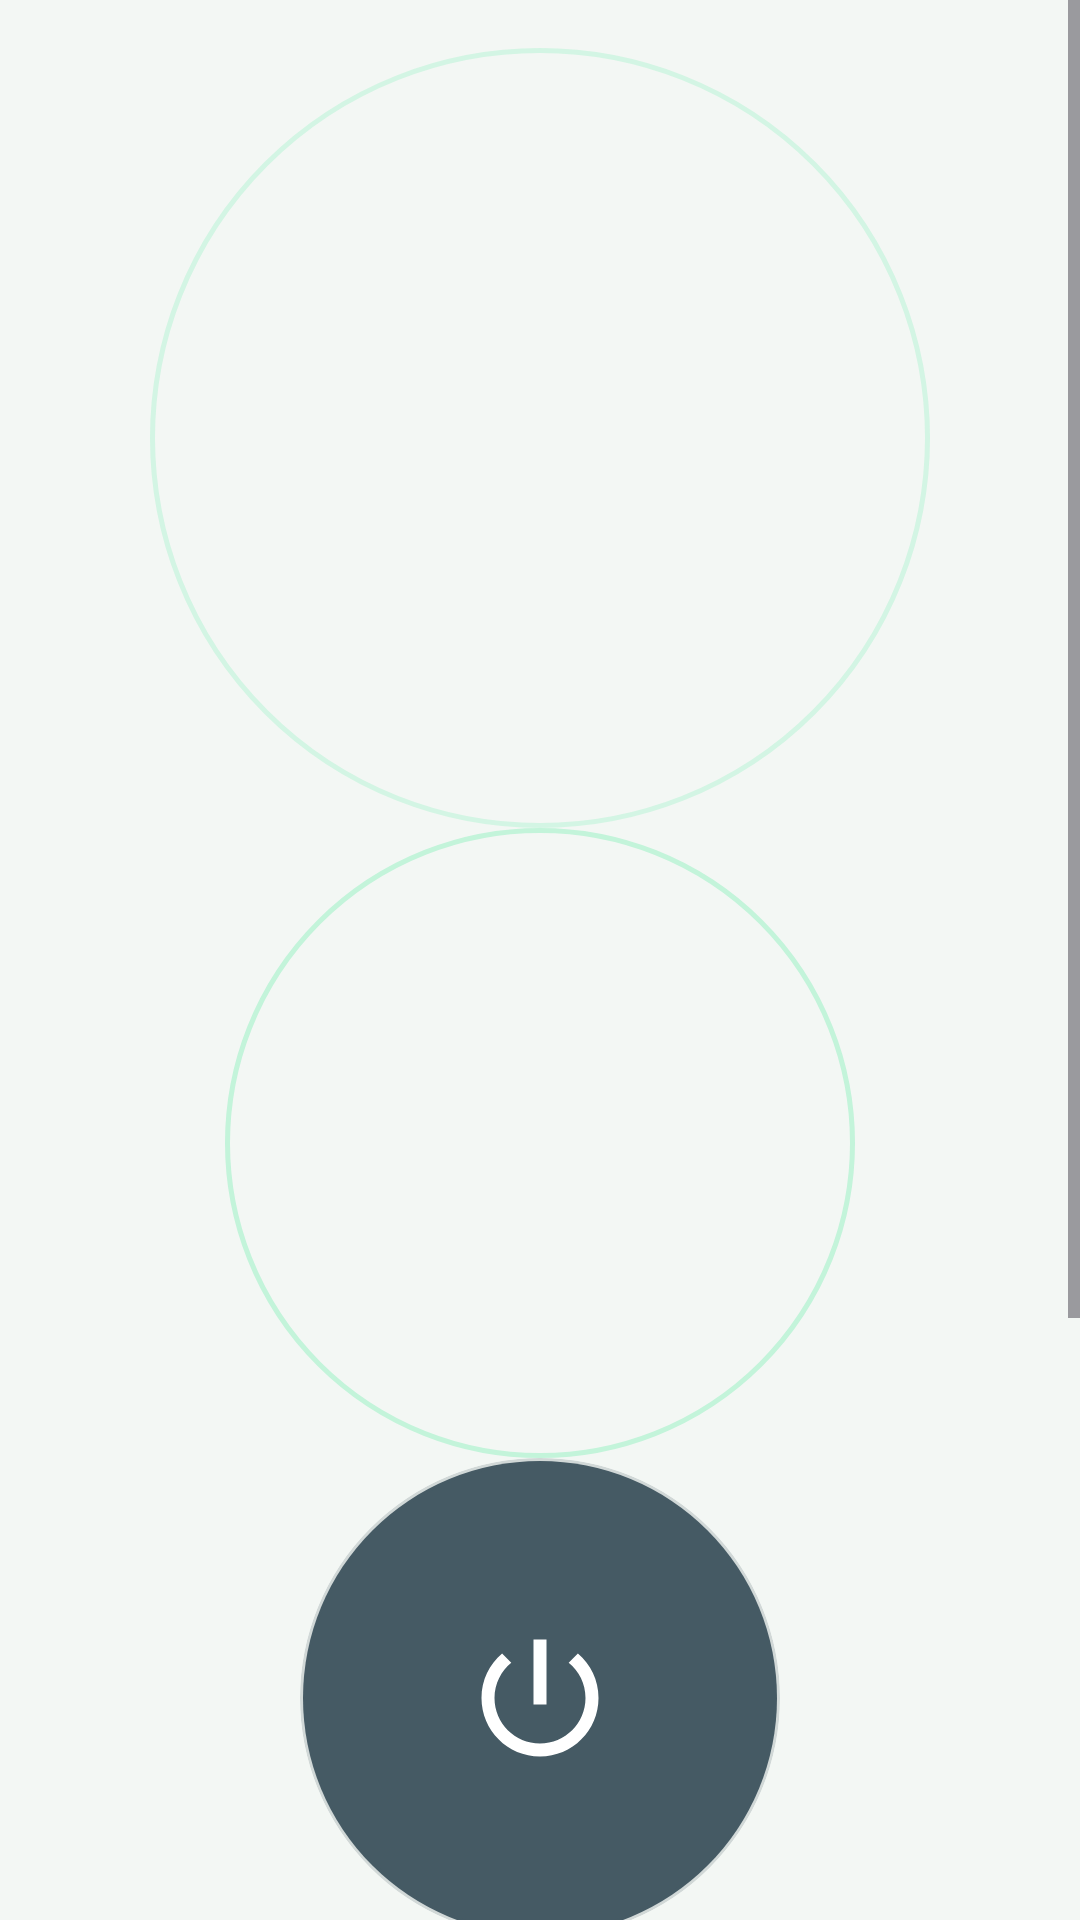

Named icons in this screenshot (1080w x 1920h) and their bounding boxes, box(x1, y1, x2, y2):
Connect: box(481, 1639, 599, 1757)
